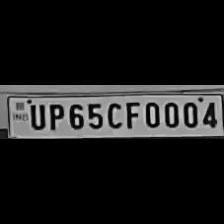0: (161, 98, 179, 128), (180, 98, 198, 128), (142, 100, 160, 128)
4: (200, 98, 218, 128)
5: (84, 100, 104, 130)
6: (66, 102, 84, 131)
C: (104, 99, 122, 129)
F: (122, 99, 140, 129)
P: (46, 102, 64, 131)
U: (27, 102, 46, 131)
